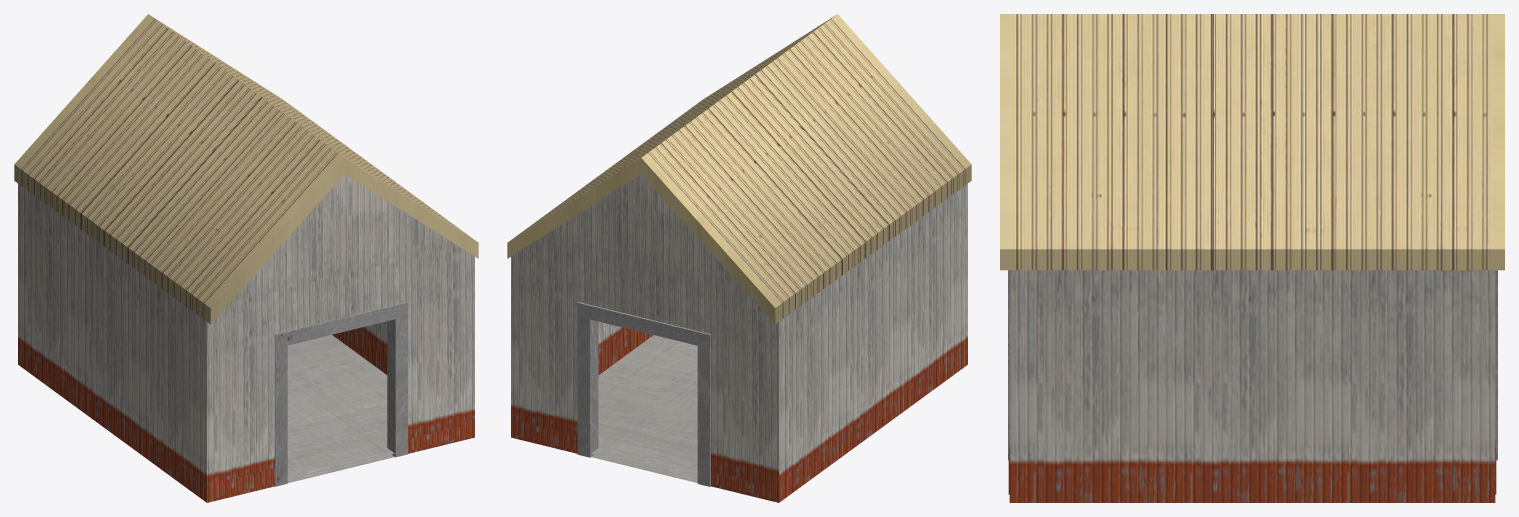
Rendered from warehouse.FBX.
3 renders of one model, left to right at view 1: azimuth 30°, elevation 25°; view 2: azimuth 150°, elevation 25°; view 3: azimuth 270°, elevation 25°, orthographic. The views are drawn at different scales.
Parts seen in each view (by area): view 1: warehouse; view 2: warehouse; view 3: warehouse.
Part boxes in pixels (left/top/right/bottom): warehouse: left=14, top=14, right=478, bottom=502; warehouse: left=507, top=14, right=971, bottom=502; warehouse: left=1000, top=14, right=1504, bottom=502.
Bounding box in the file's own units: 1260 × 1416 × 1599.
